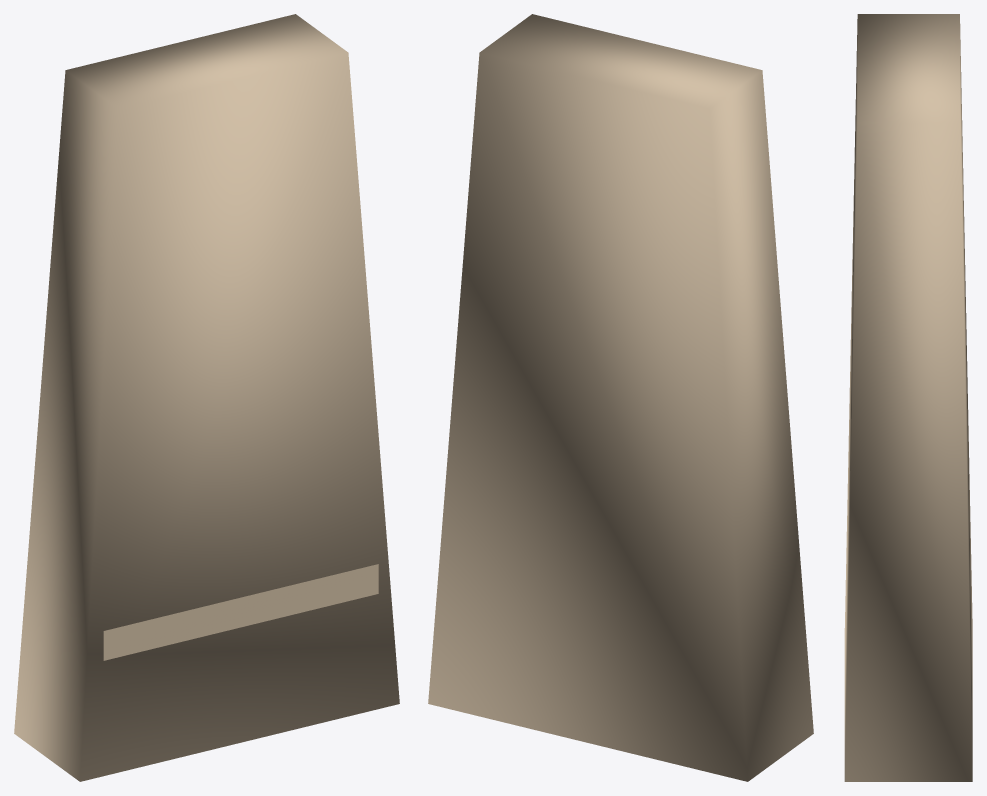
Rendered from hero-stone-kit.glb.
3 renders of one model, left to right at view 1: azimuth 30°, elevation 25°; view 2: azimuth 150°, elevation 25°; view 3: azimuth 270°, elevation 25°, orthographic. The views are drawn at different scales.
Parts seen in each view (by area): view 1: HeroStone, RegisterBand; view 2: HeroStone; view 3: HeroStone.
Boxes of the visible parts, bbox=[...] form: HeroStone: bbox=[14, 14, 399, 781]; RegisterBand: bbox=[103, 564, 378, 660]; HeroStone: bbox=[428, 14, 813, 781]; HeroStone: bbox=[844, 14, 972, 781].
Bounding box in the file's own units: 0.28 × 0.55 × 0.102.
